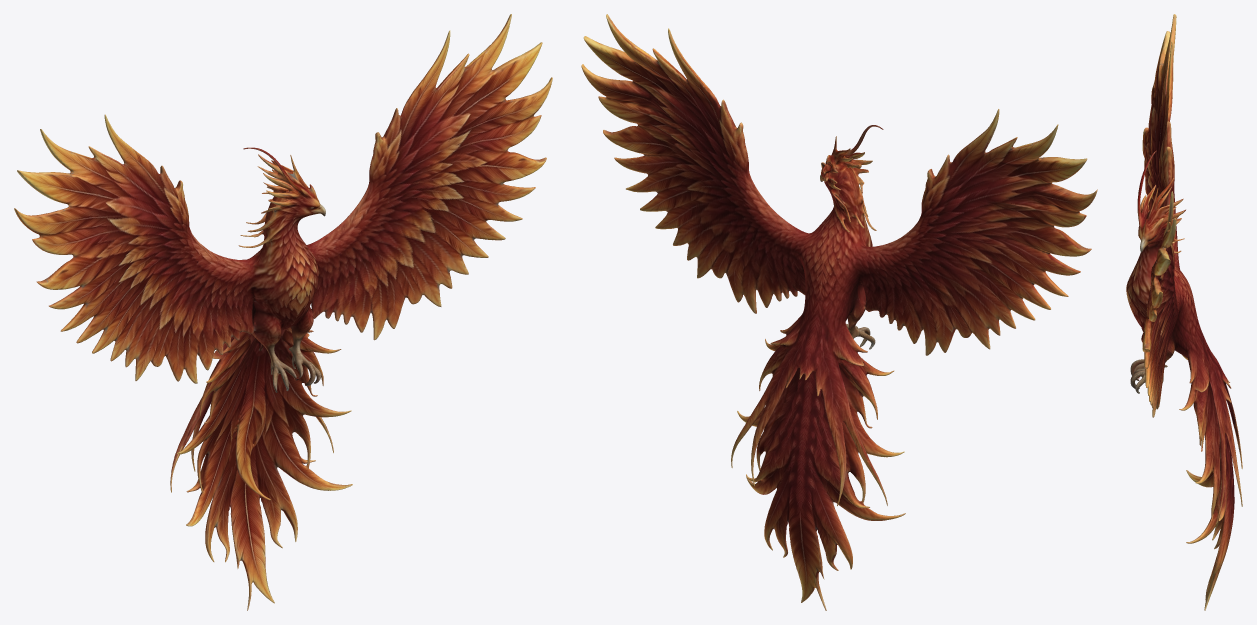
The model's file is Meshy_AI_Emberwing_Phoenix_0920105232_texture.glb.
The picture shows the model from 3 angles, left to right: view 1: azimuth 30°, elevation 25°; view 2: azimuth 150°, elevation 25°; view 3: azimuth 270°, elevation 25°; orthographic projection. The views are drawn at different scales.
Size of the model in its own units: 1.87 by 1.83 by 0.3938.
Materials: 1 (1 with a texture image).
